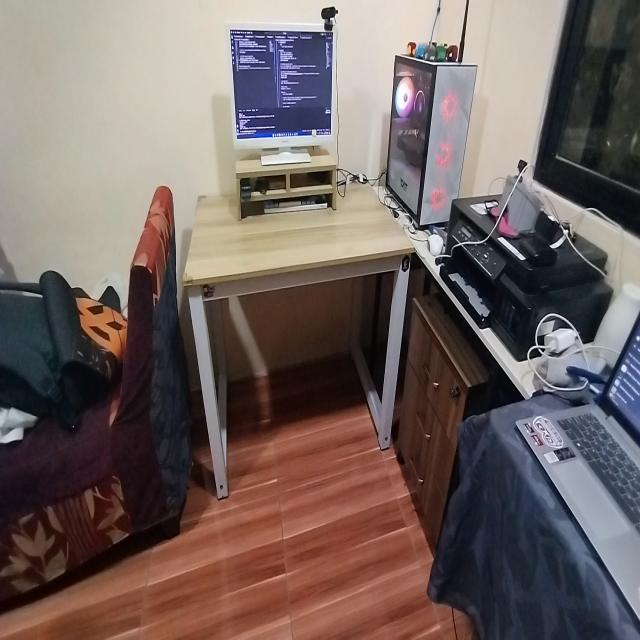table: (182, 175, 417, 473)
